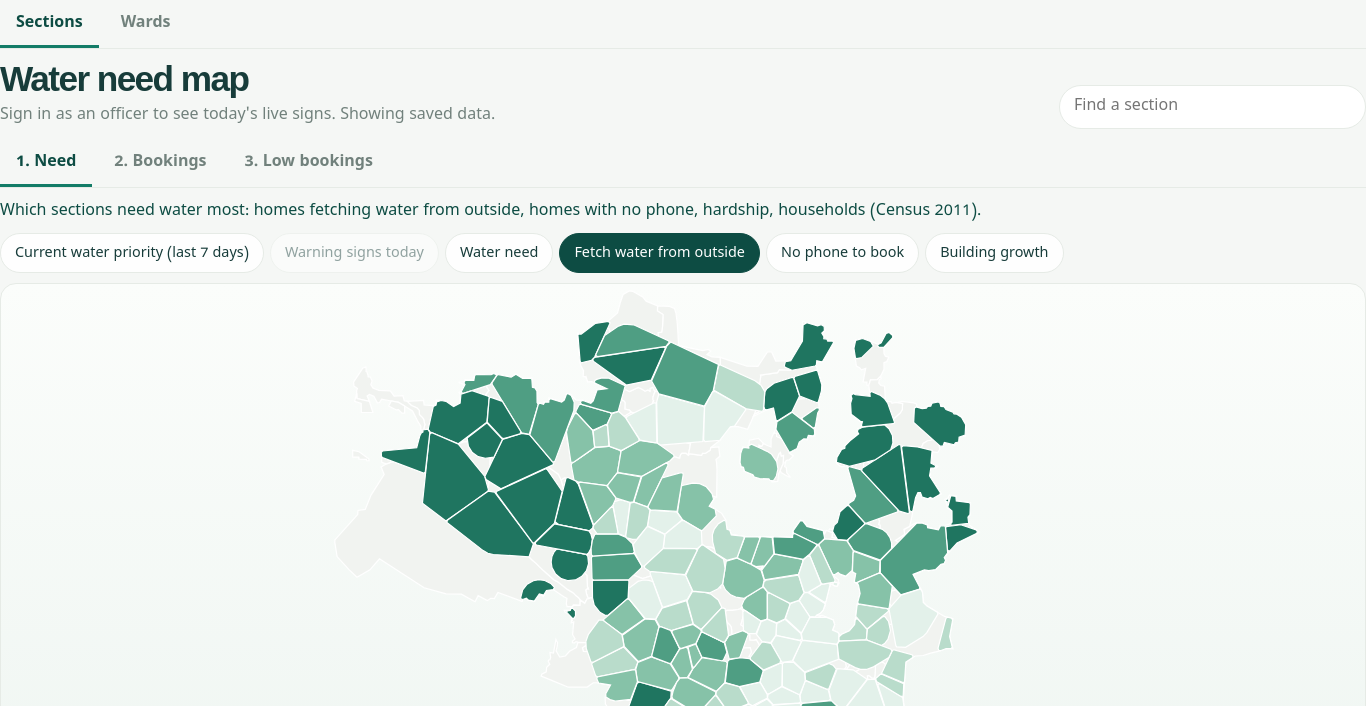
Test: EvidenceExperience › ranks wards under the map and lists building growth A-Z
This screenshot has width=1366, height=706.
Click the tab "Wards" at (146, 24), box [105,0,186,48]
(page scrolled)
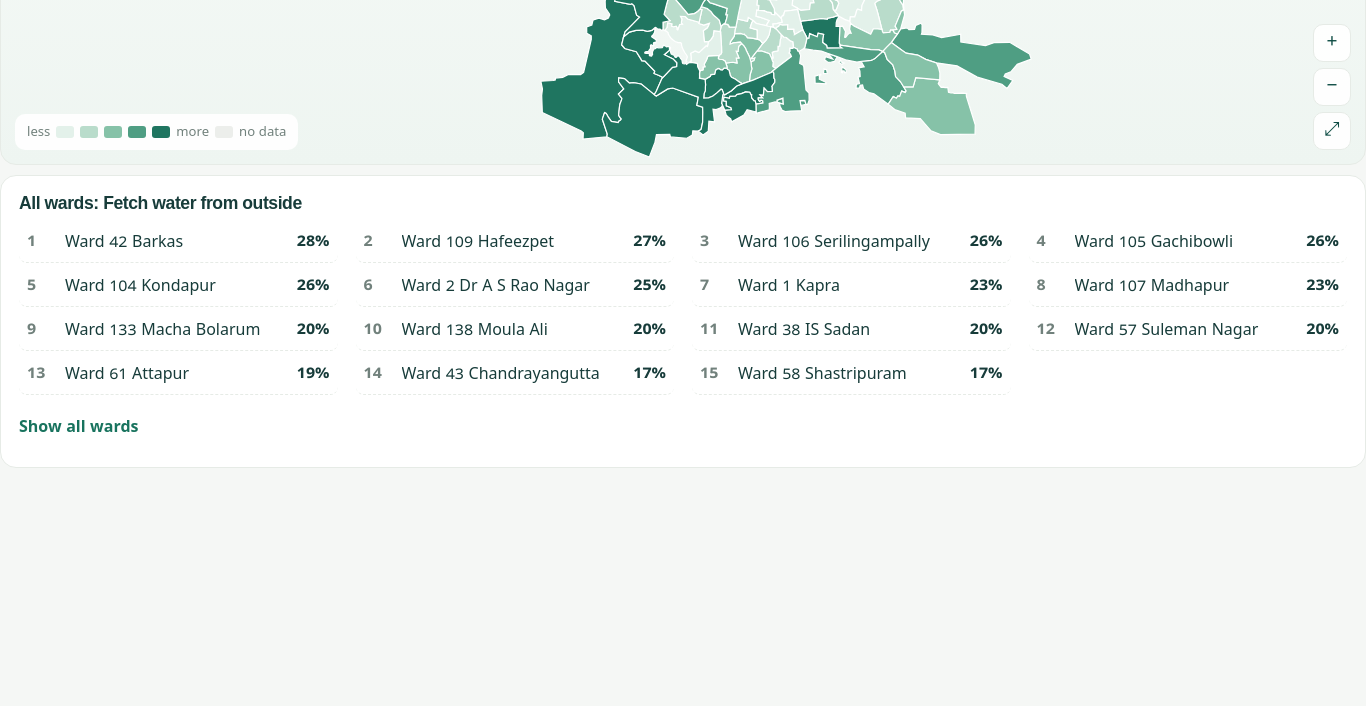
Click the button "Show all wards" at (79, 427), box [19,403,138,451]
(page scrolled)
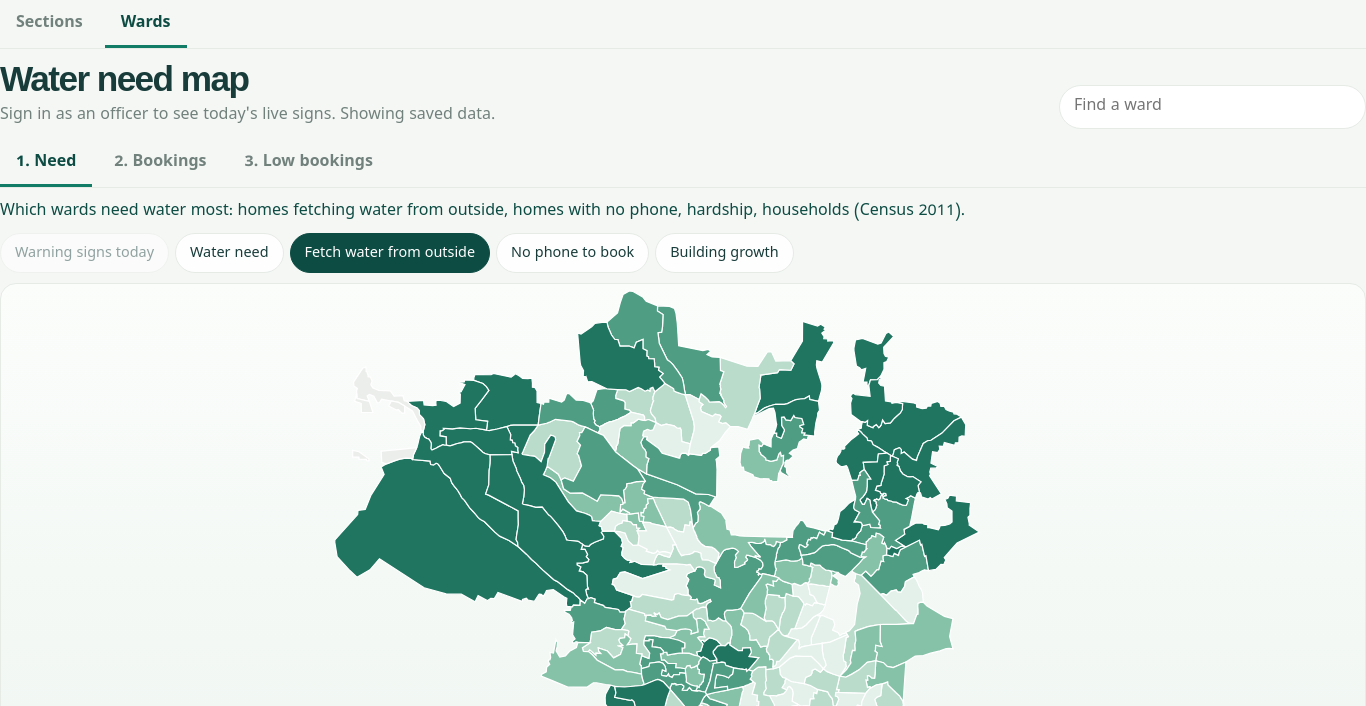
Click the radio button labelled "Building growth" at (724, 253), box [655,233,794,273]
(page scrolled)
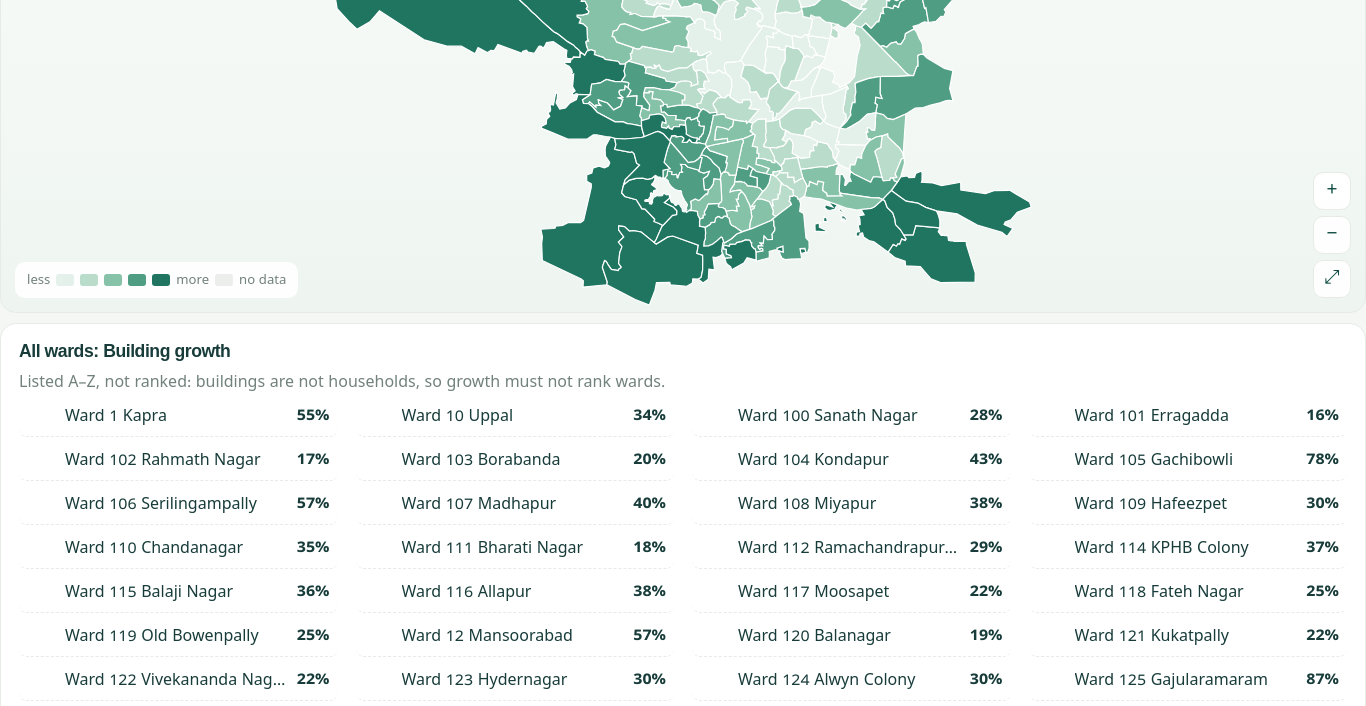
Result: the text "Listed A–Z, not ranked" is shown at [19,373,665,395]
